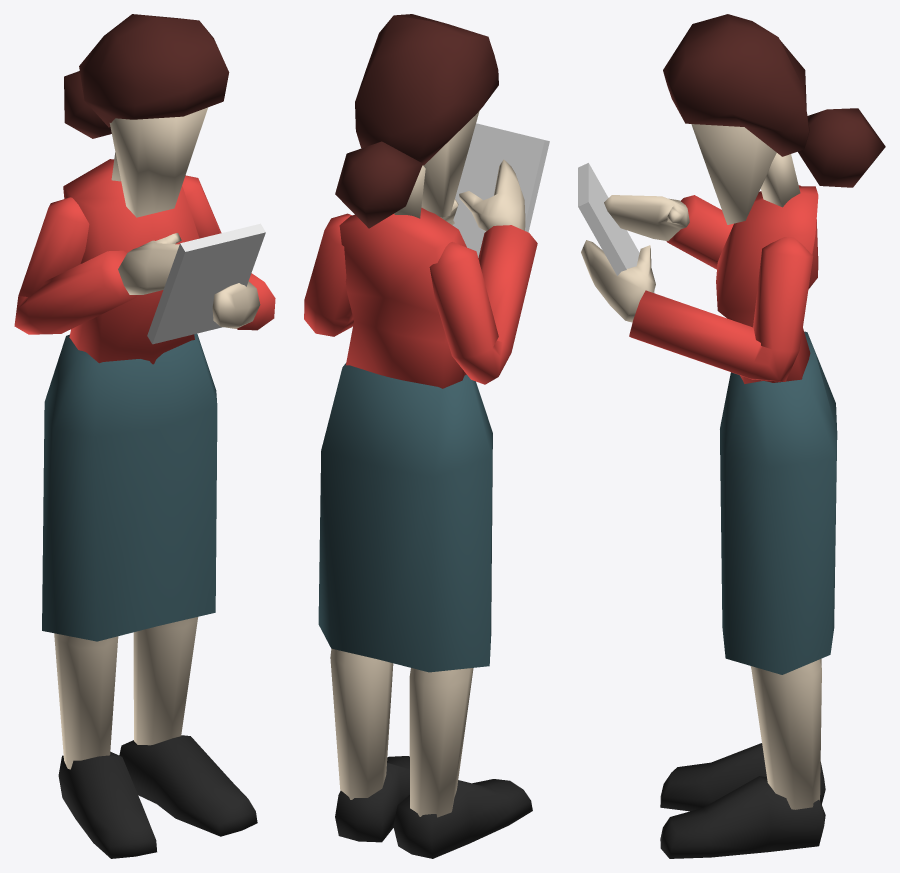
Rendered from mesh_HistorianA.fbx.
3 renders of one model, left to right at view 1: azimuth 30°, elevation 25°; view 2: azimuth 150°, elevation 25°; view 3: azimuth 270°, elevation 25°, orthographic.
Visible parts, largest first — view 1: HistorianA; view 2: HistorianA; view 3: HistorianA.
Part boxes in pixels (x1,y1,x2,y2): HistorianA: (14,14,275,858); HistorianA: (304,14,549,858); HistorianA: (578,14,885,858).
Size of the model in its own units: 28.03 by 103 by 35.96.
